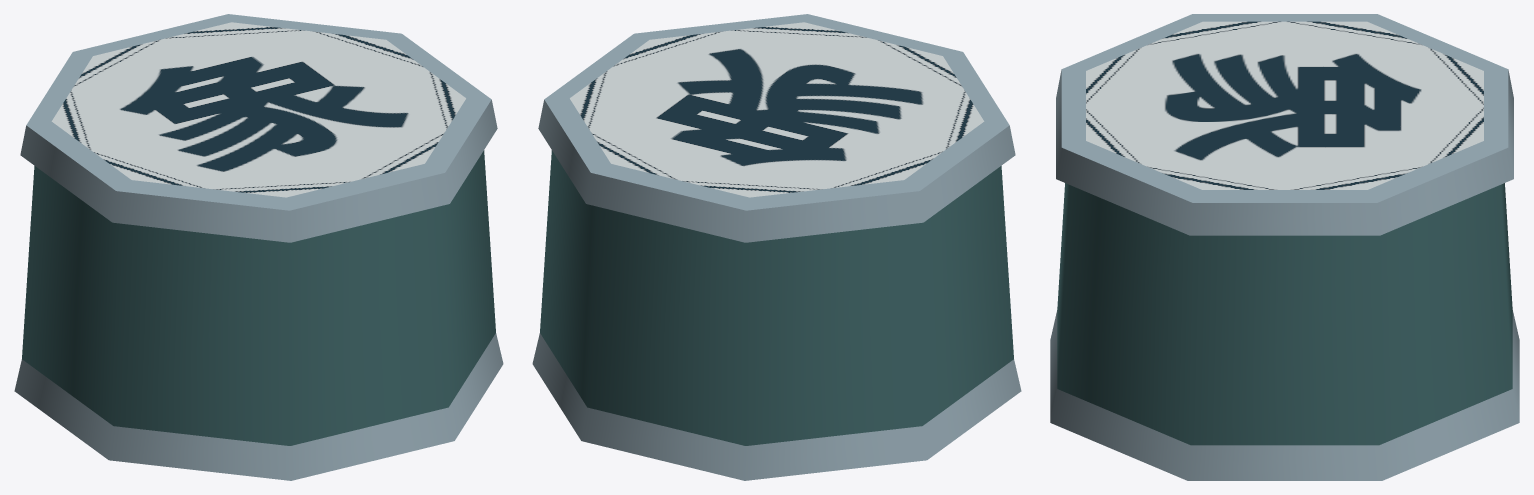
File: Blue3.glb
3 views of the same model, side by side, from view 1: azimuth 30°, elevation 25°; view 2: azimuth 150°, elevation 25°; view 3: azimuth 270°, elevation 25° (orthographic). The views are drawn at different scales.
Visible parts, largest first — view 1: Blue3; view 2: Blue3; view 3: Blue3.
Boxes of the visible parts, x1,y1,x2,y2 form: Blue3: (14,14,503,480); Blue3: (532,14,1021,480); Blue3: (1050,14,1519,480).
Bounding box in the file's own units: 0.7668 × 0.497 × 0.7668.
Materials: 3 (1 with a texture image).
